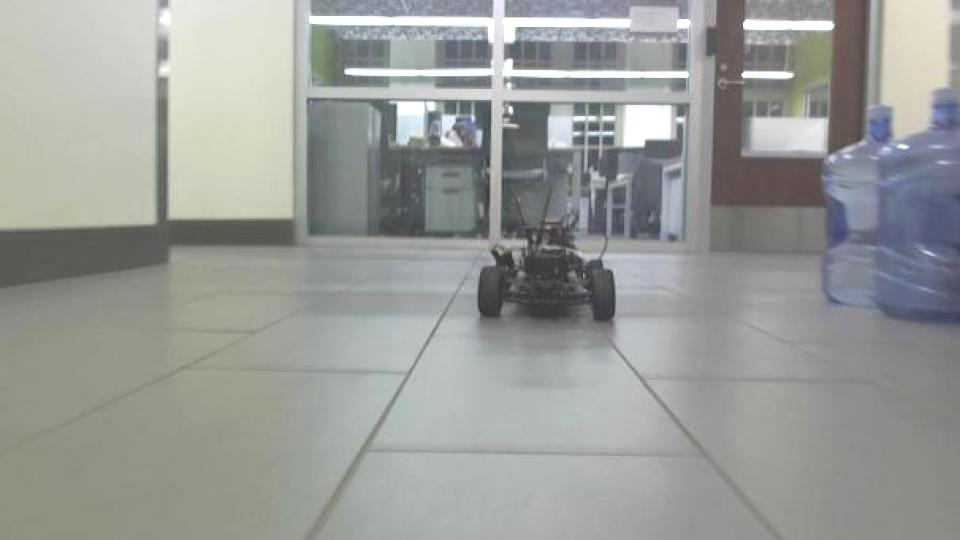car: (474, 179, 621, 324)
